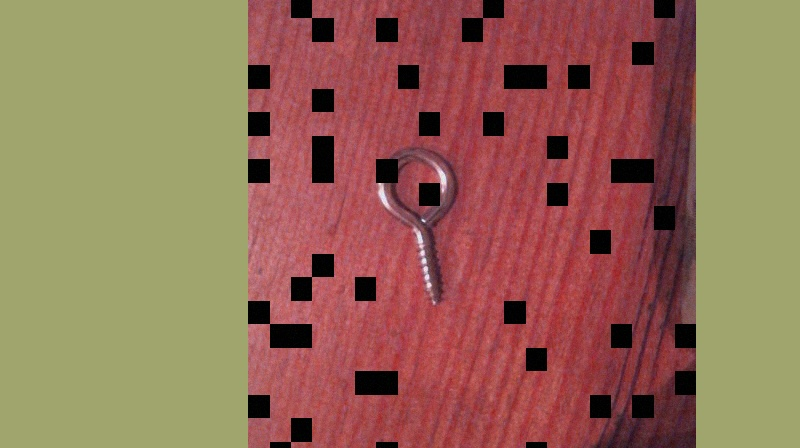O001: (373, 144, 460, 308)
